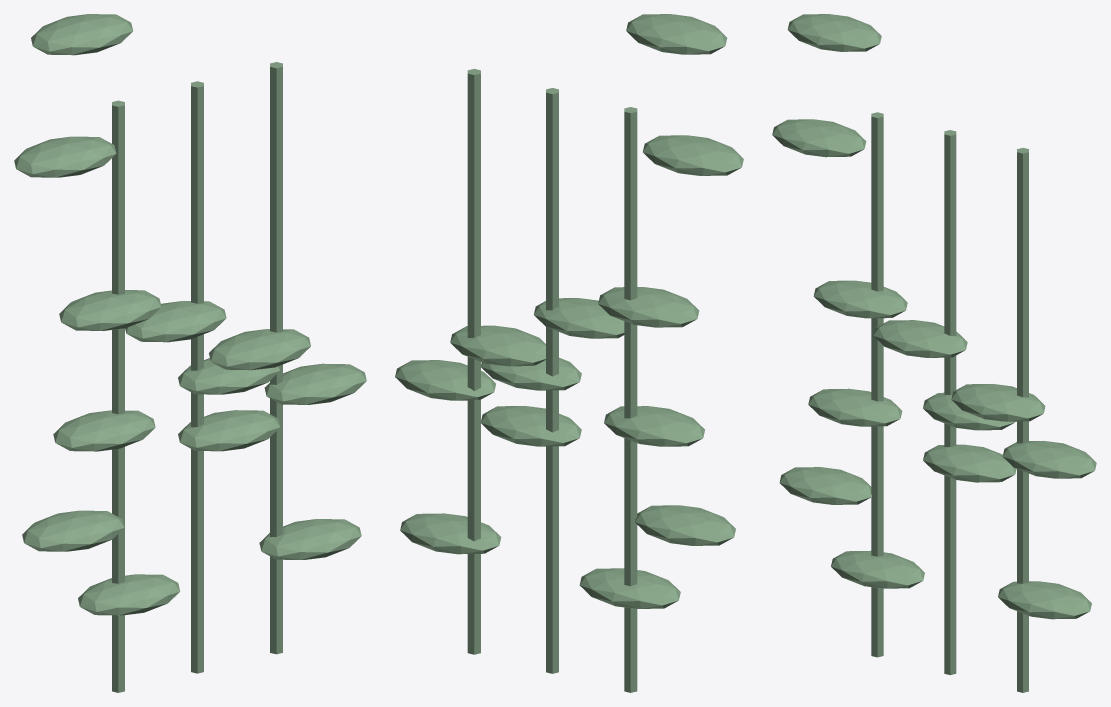
Rendered from ivy_trellis_03.glb.
The picture shows the model from 3 angles, left to right: view 1: azimuth 30°, elevation 25°; view 2: azimuth 150°, elevation 25°; view 3: azimuth 330°, elevation 25°; orthographic projection. The views are drawn at different scales.
Visible parts, largest first — view 1: vine1, vine2, vine0, leaf7, leaf0, leaf3, leaf8, leaf5, leaf6, leaf9, leaf10, leaf1 (+3 smaller); view 2: vine2, vine0, vine1, leaf7, leaf3, leaf0, leaf8, leaf6, leaf9, leaf5, leaf10, leaf4 (+3 smaller); view 3: vine1, vine0, vine2, leaf7, leaf3, leaf0, leaf1, leaf4, leaf9, leaf6, leaf10, leaf11 (+3 smaller).
Boxes of the visible parts, left/top/right/bottom form: vine1: left=191, top=81, right=203, bottom=673; vine2: left=270, top=62, right=282, bottom=654; vine0: left=112, top=100, right=124, bottom=692; leaf7: left=14, top=136, right=116, bottom=177; leaf0: left=22, top=510, right=124, bottom=551; leaf3: left=31, top=14, right=132, bottom=55; leaf8: left=53, top=410, right=155, bottom=451; leaf5: left=209, top=329, right=310, bottom=370; leaf6: left=59, top=290, right=161, bottom=330; leaf9: left=78, top=574, right=180, bottom=615; leaf10: left=178, top=410, right=280, bottom=451; leaf1: left=264, top=363, right=366, bottom=404; vine2: left=467, top=68, right=480, bottom=654; vine0: left=624, top=107, right=637, bottom=692; vine1: left=546, top=88, right=558, bottom=673; leaf7: left=643, top=135, right=743, bottom=175; leaf3: left=626, top=14, right=727, bottom=54; leaf0: left=635, top=505, right=735, bottom=545; leaf8: left=604, top=406, right=704, bottom=446; leaf6: left=598, top=287, right=699, bottom=327; leaf9: left=579, top=568, right=680, bottom=608; leaf5: left=450, top=325, right=545, bottom=366; leaf10: left=480, top=406, right=581, bottom=446; leaf4: left=400, top=513, right=501, bottom=554; vine1: left=944, top=130, right=956, bottom=675; vine0: left=871, top=112, right=883, bottom=657; vine2: left=1017, top=148, right=1028, bottom=692; leaf7: left=772, top=119, right=866, bottom=157; leaf3: left=787, top=14, right=881, bottom=51; leaf0: left=779, top=467, right=871, bottom=504; leaf1: left=1002, top=441, right=1096, bottom=478; leaf4: left=998, top=581, right=1091, bottom=619; leaf9: left=831, top=550, right=924, bottom=588; leaf6: left=813, top=280, right=907, bottom=318; leaf10: left=923, top=444, right=1016, bottom=482; leaf11: left=873, top=320, right=967, bottom=357.
Bounding box in the file's own units: 0.7941 × 1.48 × 0.14.
